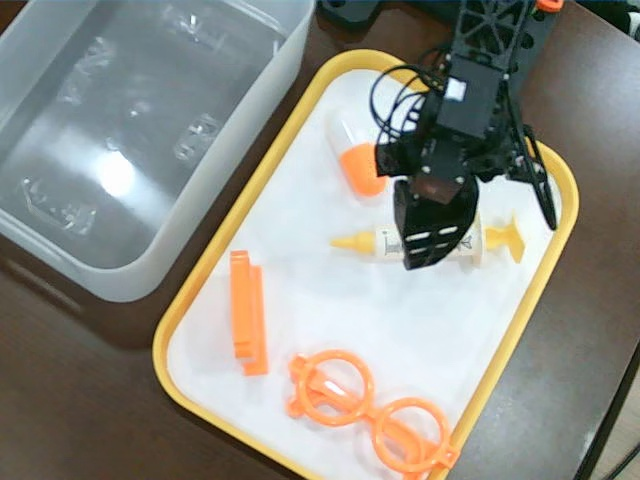pill: (331, 112, 387, 195)
